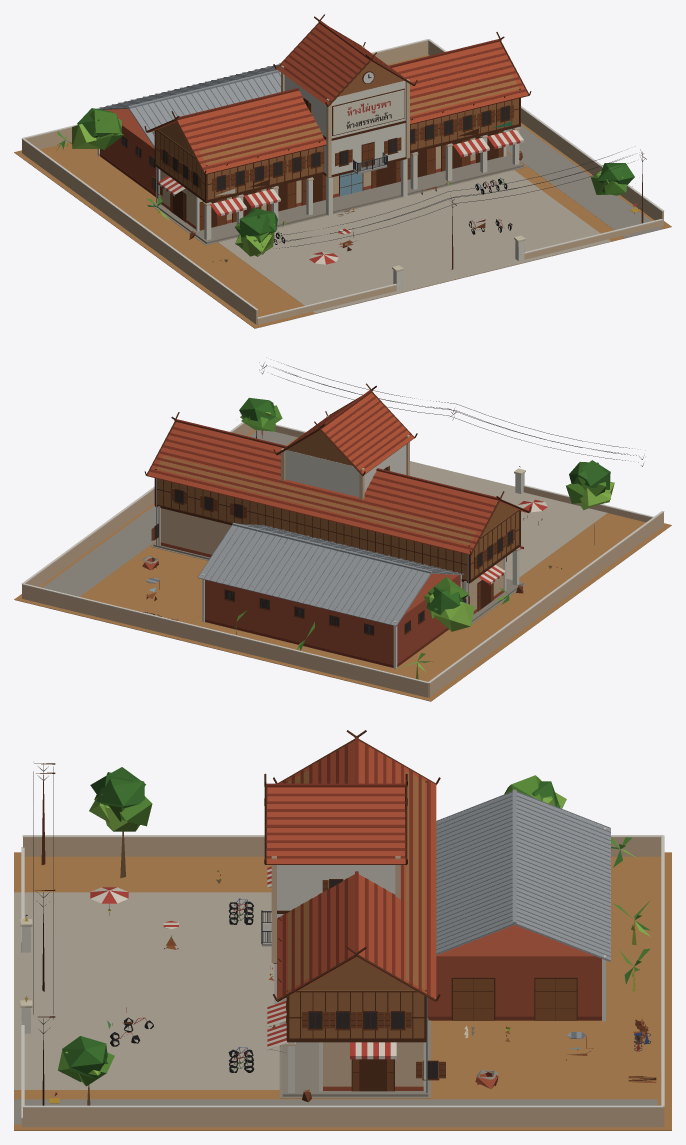
File: store.glb
The picture shows the model from 3 angles, top to bottom: view 1: azimuth 30°, elevation 25°; view 2: azimuth 150°, elevation 25°; view 3: azimuth 270°, elevation 25°; orthographic projection. The views are drawn at different scales.
Visible parts, largest first — view 1: body, windows; view 2: body, windows; view 3: body, windows.
Part boxes in pixels (box(x1,y1,x2,y2)): body: box(14, 14, 671, 328); windows: box(122, 98, 509, 191); body: box(14, 357, 671, 701); windows: box(155, 468, 512, 634); body: box(14, 730, 671, 1130); windows: box(24, 880, 437, 1078).
Bounding box in the file's own units: 47.9 × 17.33 × 47.9.
